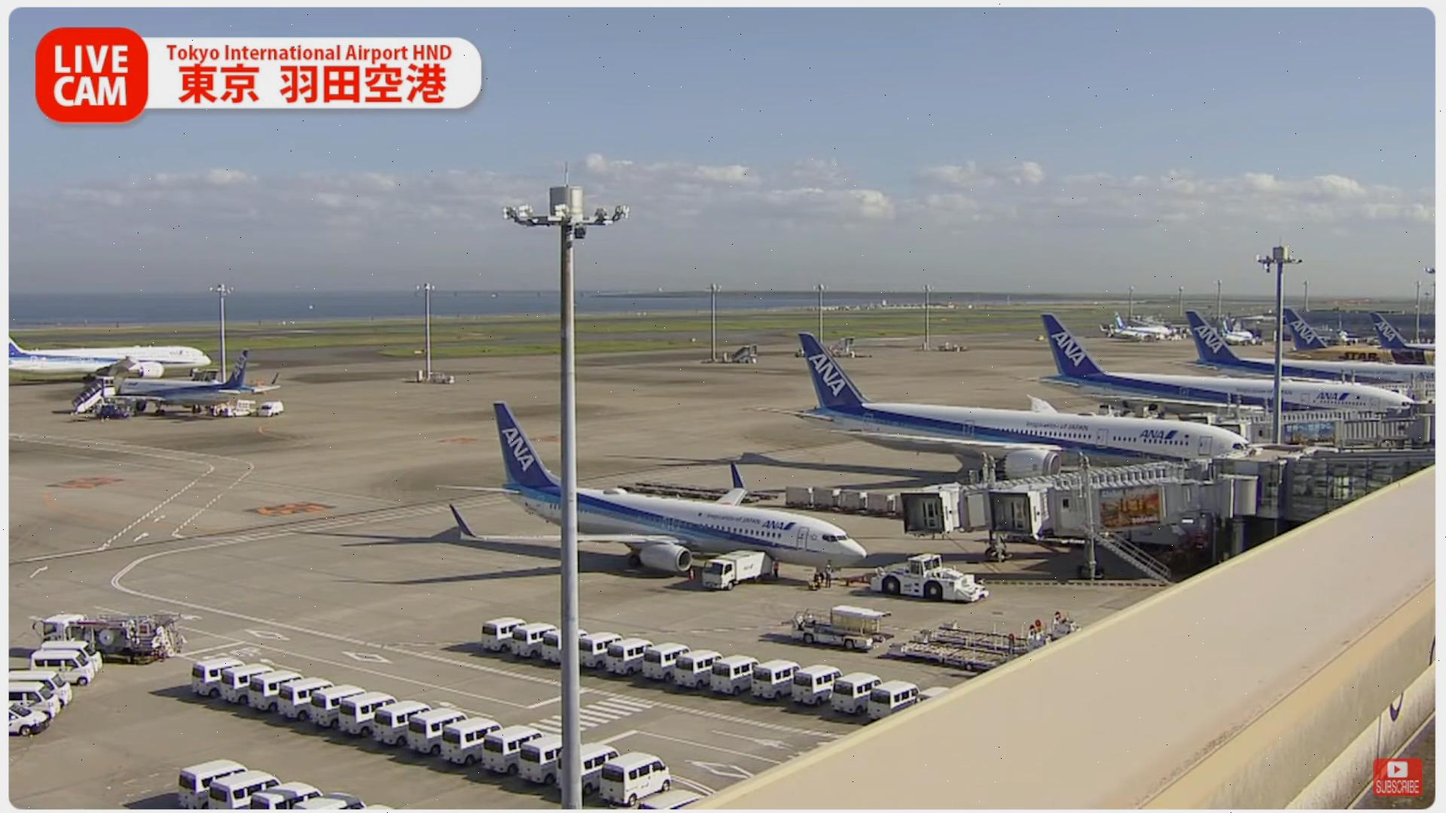APS: (871, 557, 989, 603)
Aerobridge: (898, 455, 1220, 530), (991, 451, 1256, 537)
Airplane: (438, 402, 868, 589)
Baggage truck: (703, 550, 773, 590)
JCPL: (918, 616, 1075, 656), (890, 639, 1018, 670)
Skyloader: (793, 603, 894, 653)
Window: (1290, 445, 1435, 519)
